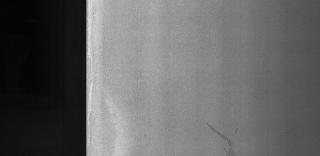water spot: (198, 120, 246, 156)
